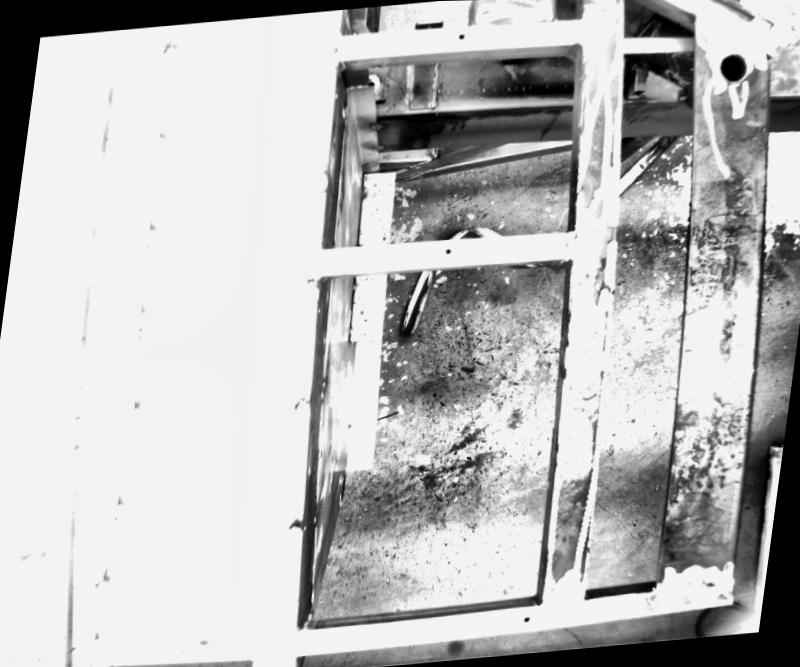hole: (715, 44, 754, 84), (444, 245, 453, 253), (524, 614, 532, 622), (458, 32, 464, 38)
